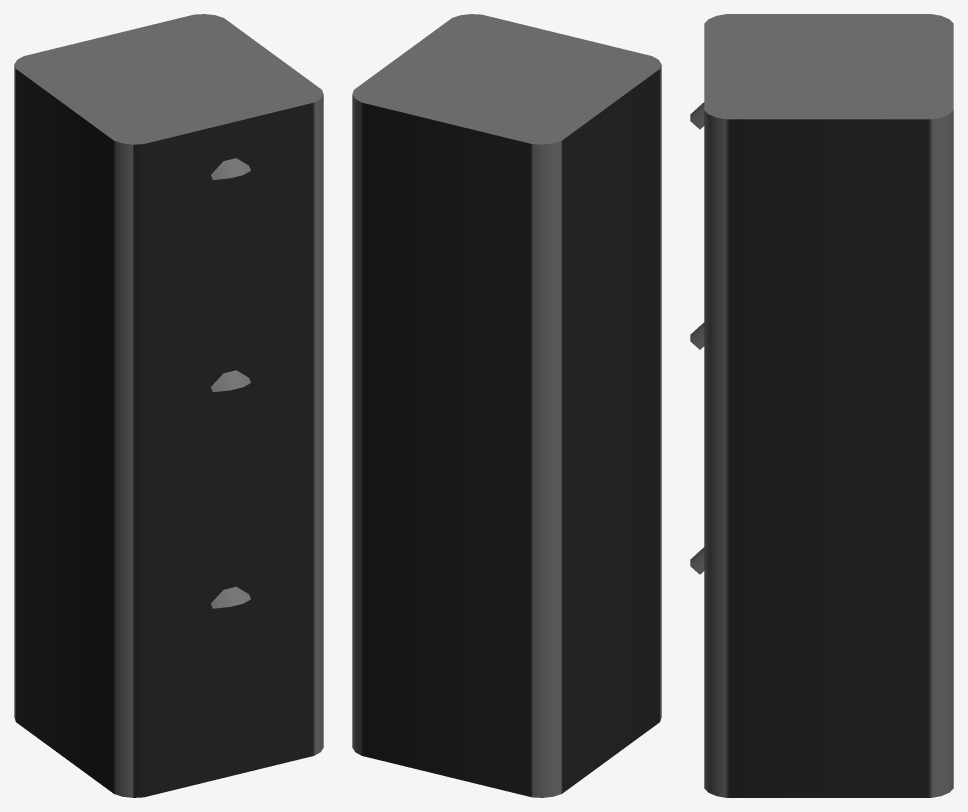
File: Rak 1.FBX
3 renders of one model, left to right at view 1: azimuth 30°, elevation 25°; view 2: azimuth 150°, elevation 25°; view 3: azimuth 270°, elevation 25°, orthographic. The views are drawn at different scales.
Parts seen in each view (by area): view 1: Plane001; view 2: Plane001; view 3: Plane001.
Boxes of the visible parts, x1=… form: Plane001: x1=14, y1=14, x2=323, y2=797; Plane001: x1=352, y1=14, x2=661, y2=797; Plane001: x1=690, y1=14, x2=953, y2=797.
Size of the model in its own units: 30 by 90 by 31.68.
